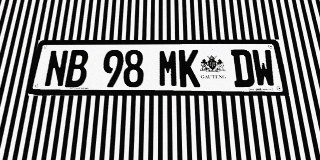8: (123, 50, 144, 87)
9: (101, 50, 124, 87)
B: (65, 50, 89, 87)
D: (231, 49, 255, 87)
K: (179, 50, 200, 87)
M: (158, 50, 179, 87)
N: (43, 50, 69, 87)
W: (251, 49, 277, 87)
